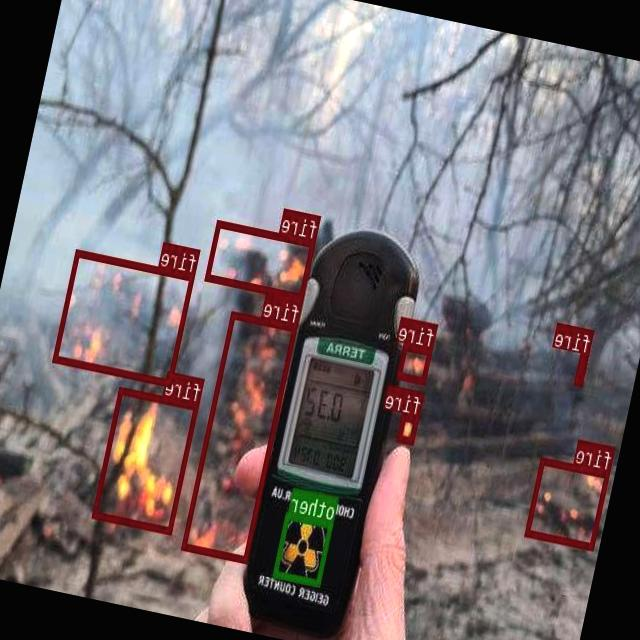fire: (182, 309, 298, 562), (53, 249, 196, 386), (92, 386, 200, 534), (206, 219, 316, 300), (526, 456, 610, 549), (398, 342, 433, 382), (398, 412, 420, 444), (575, 352, 589, 384)
